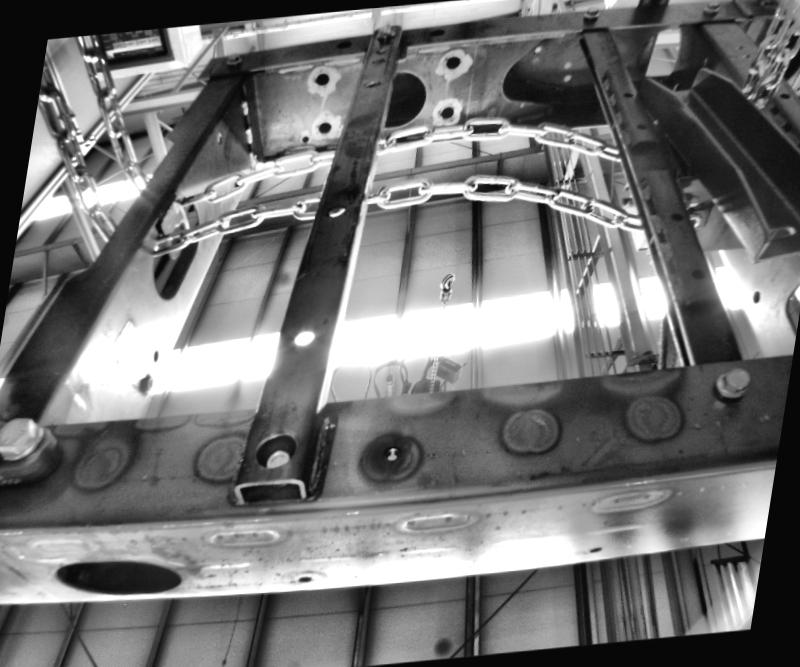bolt: (0, 406, 50, 471), (709, 365, 759, 400), (133, 370, 158, 396), (579, 3, 606, 19), (222, 48, 244, 65), (701, 0, 723, 16)
bracket: (148, 174, 202, 260)
hole: (30, 542, 198, 602), (253, 428, 298, 472), (290, 326, 320, 351), (377, 441, 404, 464), (325, 198, 349, 215), (435, 98, 455, 116), (312, 70, 332, 86), (316, 118, 334, 135), (362, 74, 383, 87), (748, 288, 765, 304), (333, 36, 354, 48), (444, 49, 461, 63), (587, 542, 603, 556), (297, 572, 314, 584), (149, 348, 159, 362), (428, 26, 444, 34), (375, 38, 386, 48), (301, 134, 309, 141)
welding: (238, 94, 254, 114), (246, 148, 258, 168), (243, 125, 255, 144)
